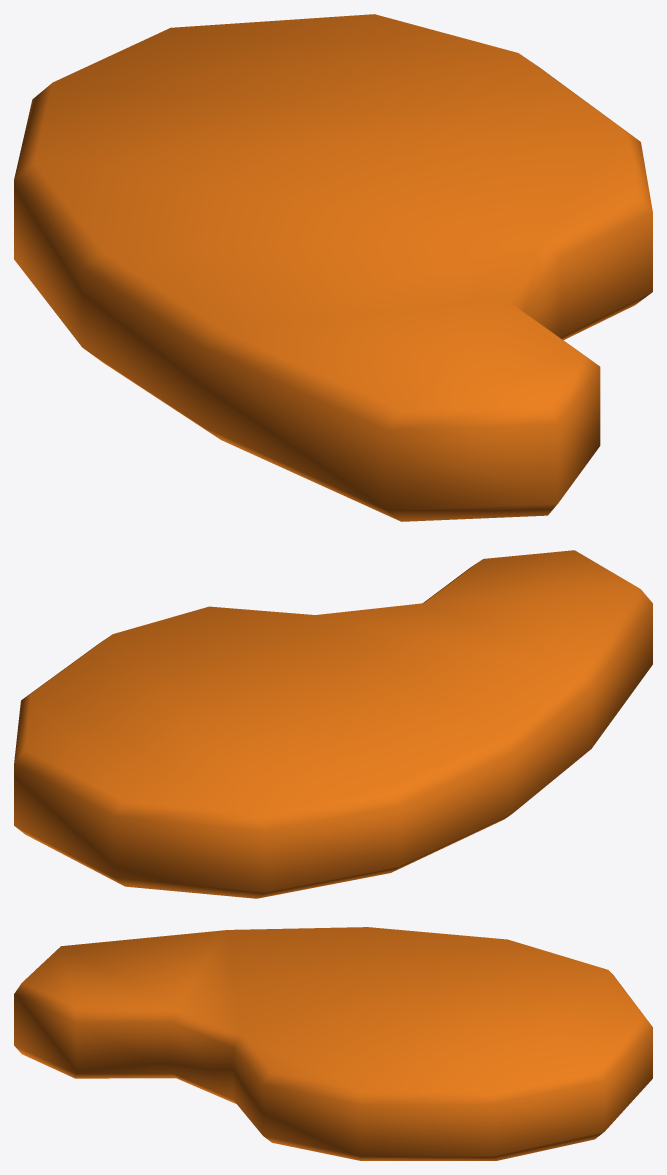
File: MeatSteak.fbx
3 renders of one model, top to bottom at view 1: azimuth 30°, elevation 25°; view 2: azimuth 150°, elevation 25°; view 3: azimuth 270°, elevation 25°, orthographic. The views are drawn at different scales.
Visible parts, largest first — view 1: MeatSteak; view 2: MeatSteak; view 3: MeatSteak.
Boxes of the visible parts, left/top/right/bottom form: MeatSteak: left=14, top=14, right=652, bottom=521; MeatSteak: left=14, top=550, right=652, bottom=898; MeatSteak: left=14, top=927, right=652, bottom=1160.
Size of the model in its own units: 56.13 by 10.82 by 87.68.
